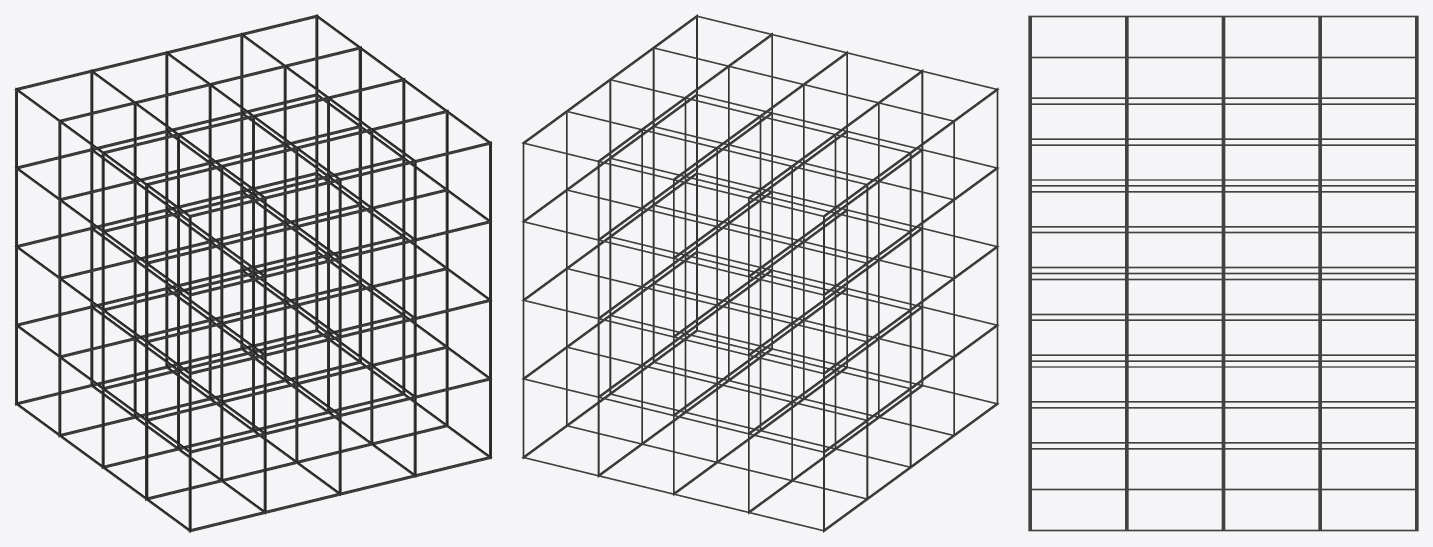
The model's file is 001657010002_1_CubeWire01.glb.
The picture shows the model from 3 angles, left to right: view 1: azimuth 30°, elevation 25°; view 2: azimuth 150°, elevation 25°; view 3: azimuth 270°, elevation 25°; orthographic projection. The views are drawn at different scales.
Parts seen in each view (by area): view 1: 001657010002_1_CubeWire01.obj; view 2: 001657010002_1_CubeWire01.obj; view 3: 001657010002_1_CubeWire01.obj.
Boxes of the visible parts, bbox=[...] form: 001657010002_1_CubeWire01.obj: bbox=[14, 14, 492, 532]; 001657010002_1_CubeWire01.obj: bbox=[521, 14, 999, 532]; 001657010002_1_CubeWire01.obj: bbox=[1028, 15, 1418, 531].
Size of the model in its own units: 1.01 by 1.01 by 1.01.
1 material, 1 textured.
